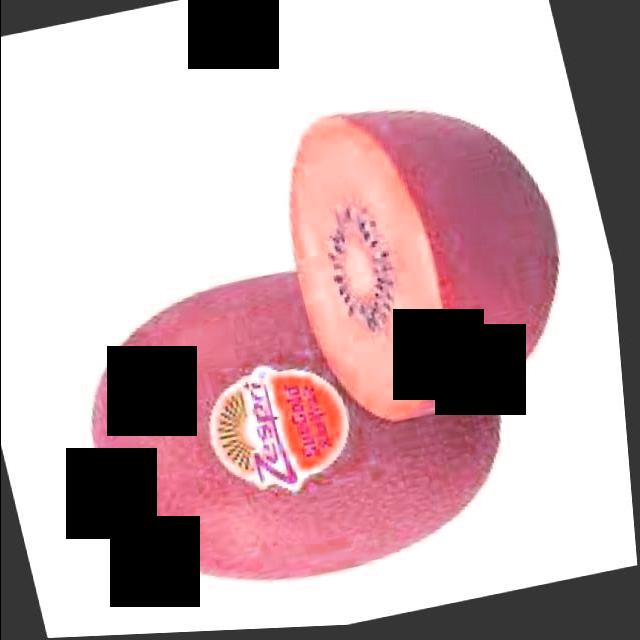kiwi: (55, 231, 544, 624)
